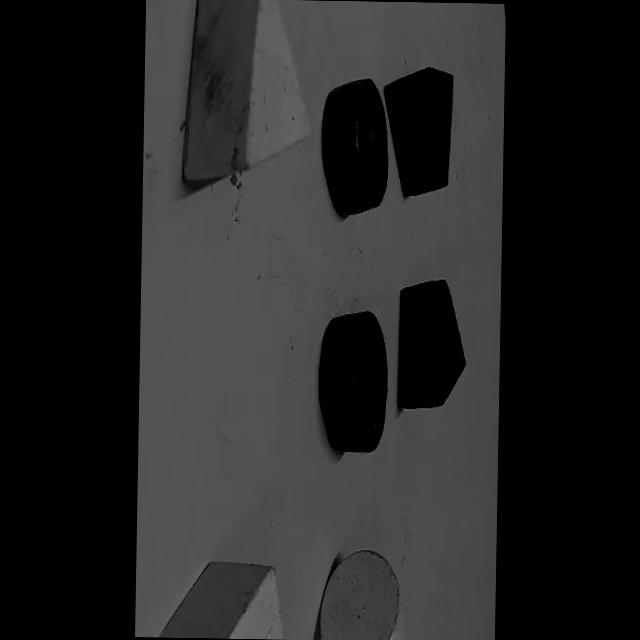bcircle: (316, 307, 390, 456)
btriangle: (396, 276, 468, 414)
rcircle: (318, 76, 391, 222)
rtriangle: (382, 65, 454, 202)
ycircle: (316, 548, 406, 640)
ycube: (156, 560, 280, 639)
ytriangle: (186, 0, 312, 184)
